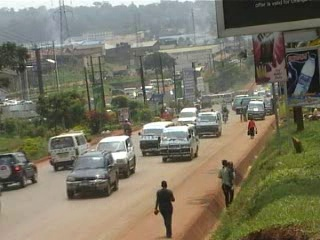Car: (62, 150, 121, 200), (94, 132, 136, 178), (0, 145, 39, 191), (174, 105, 201, 126)
Motorcycle: (164, 106, 177, 127), (122, 115, 133, 138), (219, 102, 229, 123), (98, 127, 113, 137)
